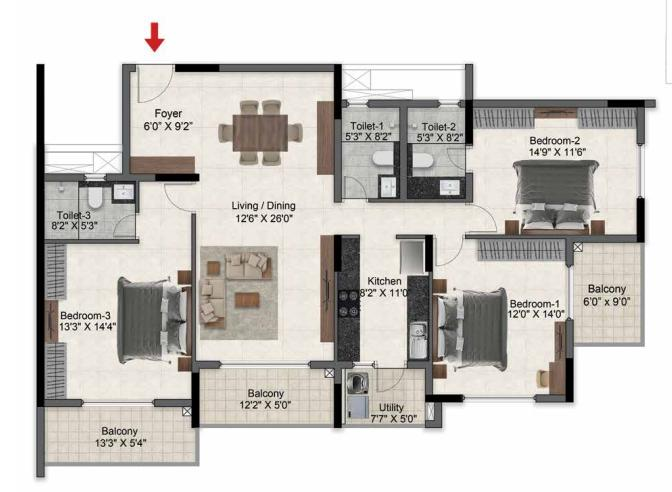Balcony: (41, 399, 197, 467), (195, 365, 335, 424), (574, 239, 645, 343)
Bed: (429, 288, 512, 370), (518, 156, 597, 237), (119, 284, 192, 360)
Bedroom: (39, 240, 193, 404), (474, 104, 644, 238), (429, 239, 570, 398)
Dining Room: (199, 72, 330, 175)
Dining table: (219, 100, 303, 167)
Foyer: (131, 67, 196, 174)
Kitchen: (339, 238, 428, 363)
Living Room: (189, 179, 332, 366)
Sofa: (225, 252, 271, 280), (199, 279, 227, 325)
Wardrobe: (477, 238, 564, 262), (476, 107, 535, 129), (44, 242, 66, 299), (44, 344, 65, 398), (581, 109, 637, 128)
commode: (87, 187, 102, 211), (371, 150, 393, 166), (412, 154, 434, 167)
door: (138, 66, 176, 102), (467, 206, 497, 232), (377, 366, 405, 393), (435, 239, 464, 265), (165, 183, 191, 211), (344, 175, 367, 199), (448, 147, 471, 170), (114, 215, 138, 236)
fridge: (400, 242, 424, 274)
kitchen-slab: (338, 239, 360, 360), (406, 275, 428, 363)
sink: (409, 324, 429, 361), (378, 177, 399, 199), (439, 178, 461, 197), (114, 184, 133, 200)
stove: (339, 291, 360, 319)
toilet: (337, 106, 408, 201), (402, 101, 469, 200), (47, 185, 136, 239)
tv: (319, 237, 333, 342), (554, 319, 567, 399), (45, 300, 59, 341), (537, 107, 578, 119)
utility: (337, 365, 428, 423)
washing-machine: (346, 369, 369, 395)
